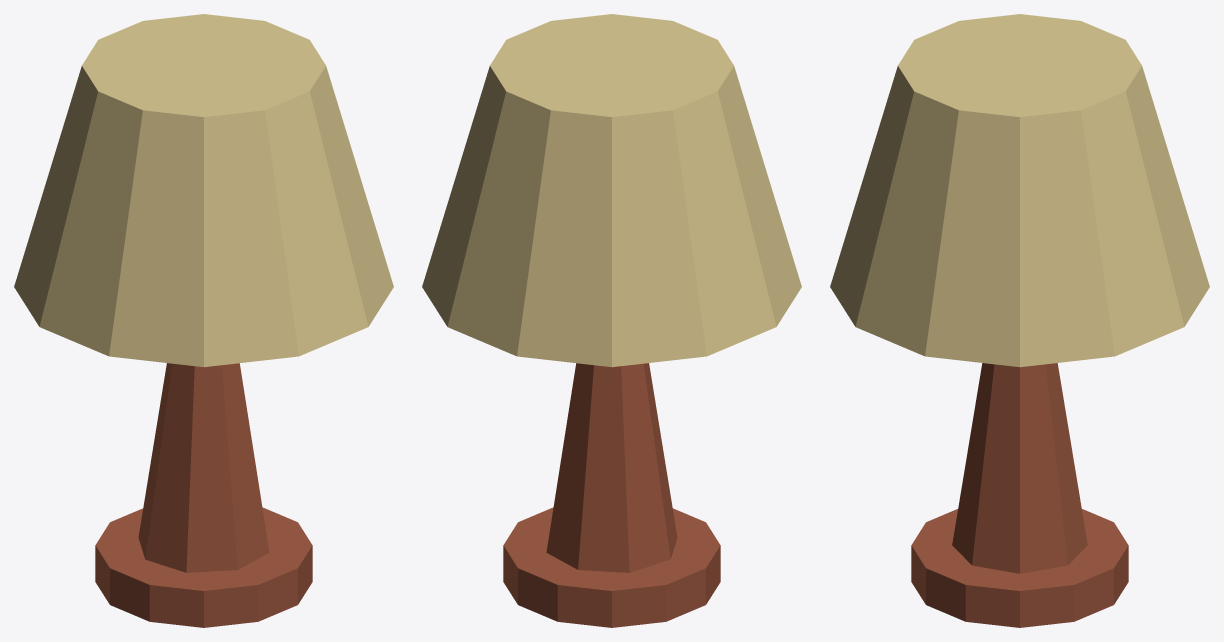
File: table_lamp.glb
3 views of the same model, side by side, from view 1: azimuth 30°, elevation 25°; view 2: azimuth 150°, elevation 25°; view 3: azimuth 270°, elevation 25° (orthographic).
Visible parts, largest first — view 1: table_lamp; view 2: table_lamp; view 3: table_lamp.
Boxes of the visible parts, bbox=[...] form: table_lamp: bbox=[14, 14, 393, 627]; table_lamp: bbox=[422, 14, 801, 627]; table_lamp: bbox=[830, 14, 1209, 627].
Size of the model in its own units: 0.28 by 0.42 by 0.28.
